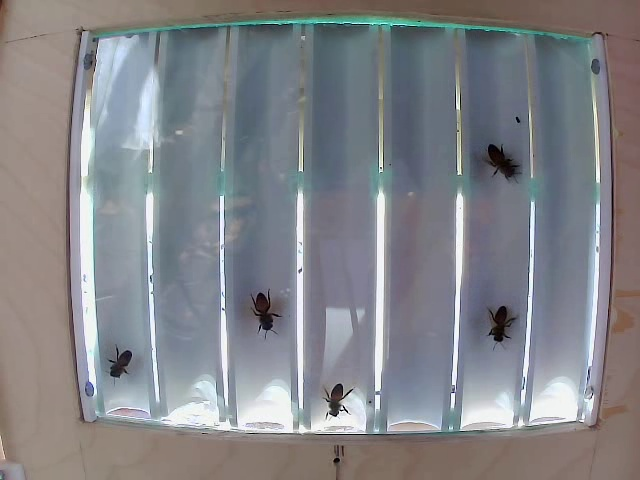bee: (95, 345, 150, 388), (313, 372, 361, 420), (489, 138, 523, 197), (485, 292, 519, 350), (245, 294, 283, 337)
